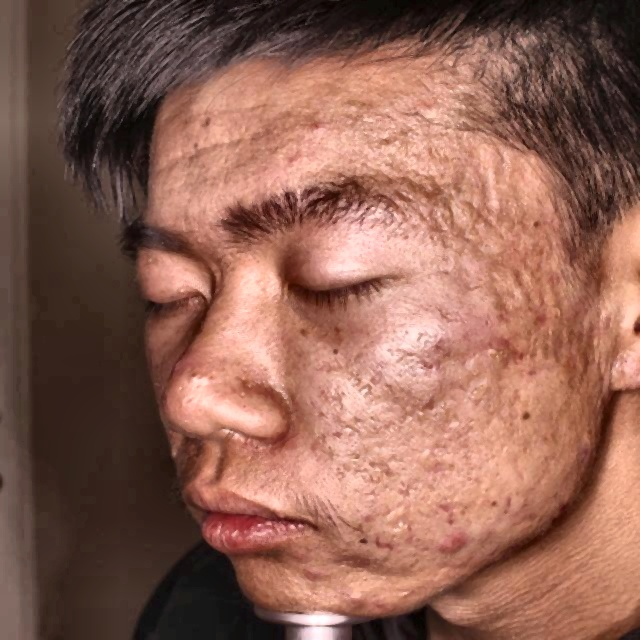comedone: (474, 327, 510, 360), (440, 528, 479, 550), (347, 591, 385, 611), (305, 562, 336, 584)
